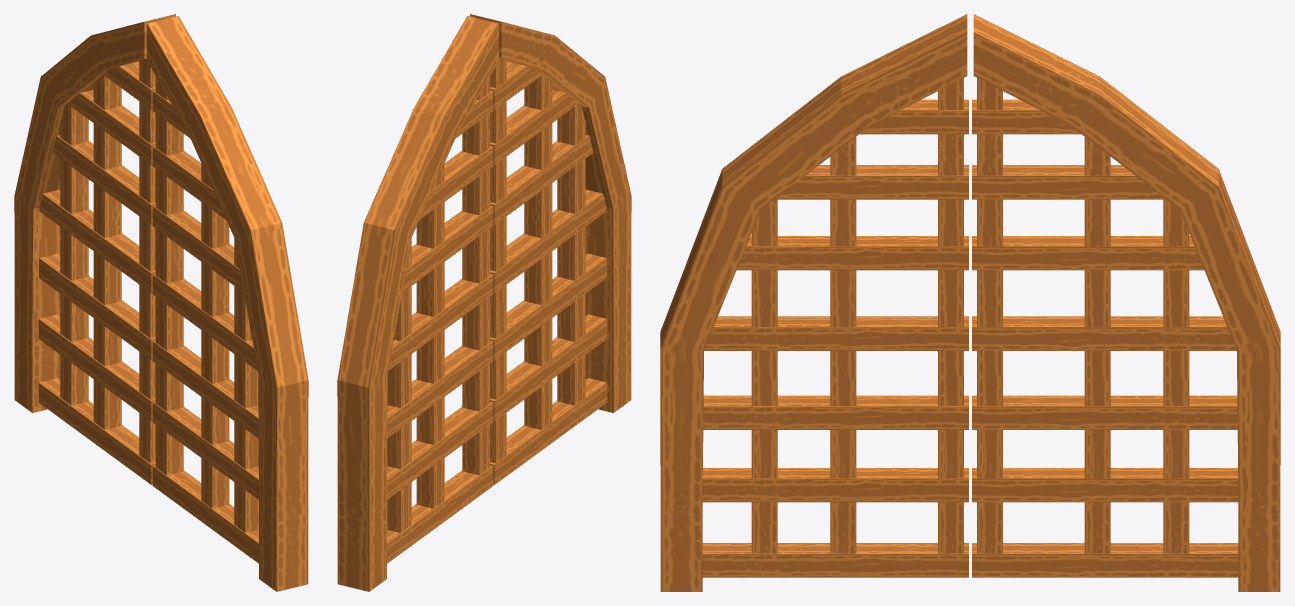
Rendered from gate_01.fbx.
The picture shows the model from 3 angles, left to right: view 1: azimuth 30°, elevation 25°; view 2: azimuth 150°, elevation 25°; view 3: azimuth 270°, elevation 25°; orthographic projection. The views are drawn at different scales.
Visible parts, largest first — view 1: Cube.003_Cube.001, Cube.003_Cube.002; view 2: Cube.003_Cube.002, Cube.003_Cube.001; view 3: Cube.003_Cube.001, Cube.003_Cube.002.
Boxes of the visible parts, bbox=[...] form: Cube.003_Cube.001: bbox=[147, 16, 308, 591]; Cube.003_Cube.002: bbox=[14, 14, 175, 484]; Cube.003_Cube.002: bbox=[337, 16, 498, 591]; Cube.003_Cube.001: bbox=[470, 14, 631, 484]; Cube.003_Cube.001: bbox=[660, 14, 968, 591]; Cube.003_Cube.002: bbox=[972, 14, 1280, 591].
Bounding box in the file's own units: 23.05 × 330 × 332.
